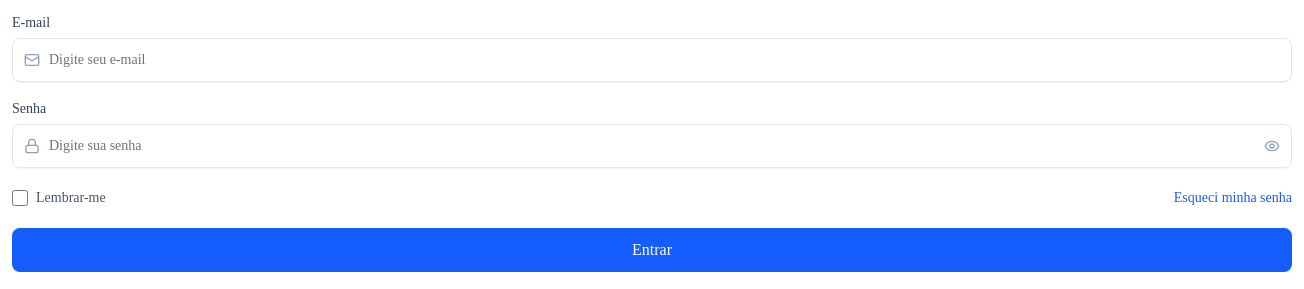
LoginForm › envia credenciais, mostra loading e redireciona para /verificar
In the field with placeholder "Digite seu e-mail": (652, 60) [12,38,1292,82], type "eng@empresa.com"
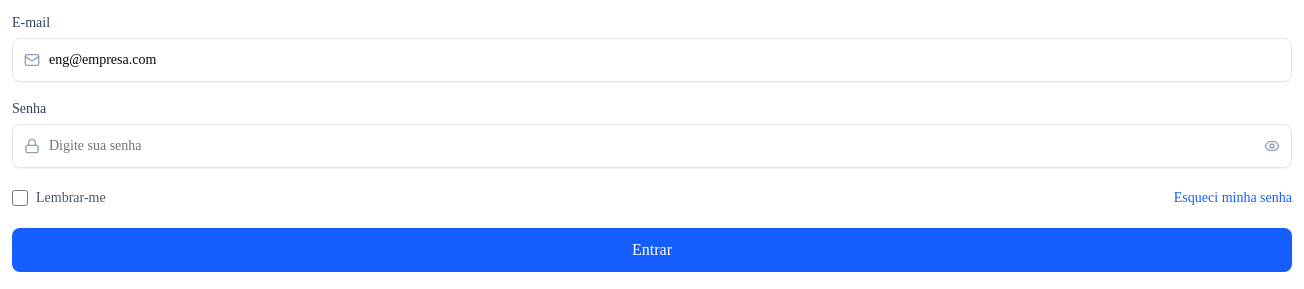
In the password field with placeholder "Digite sua senha": (652, 146) [12,124,1292,168], type "segredo123"
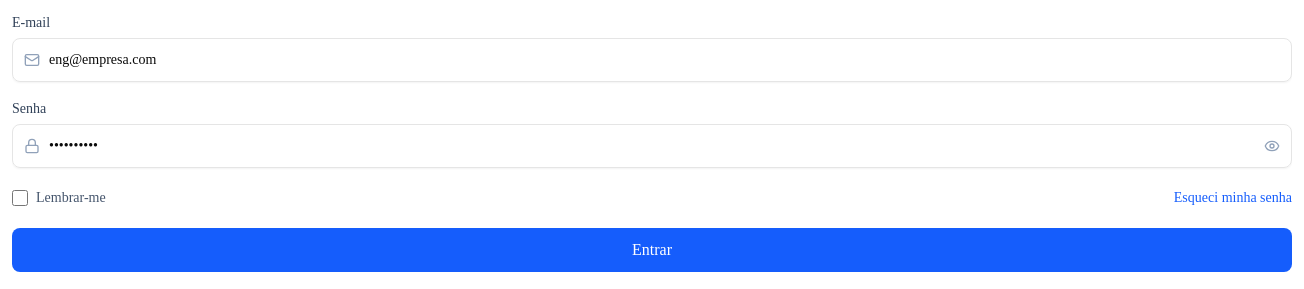
Submit the form "Entrar"
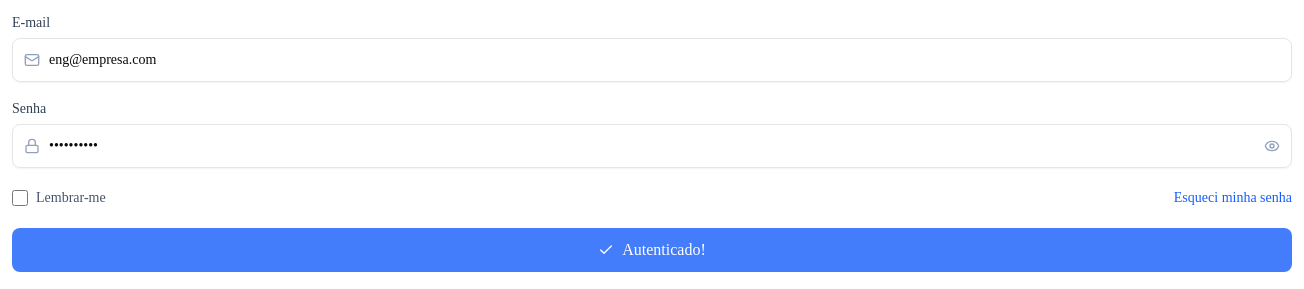
expect the button named "Entrando" is disabled: met, box [12,228,1292,272]
